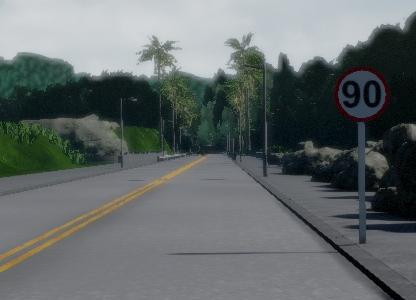Speed_90: (333, 64, 392, 125)
